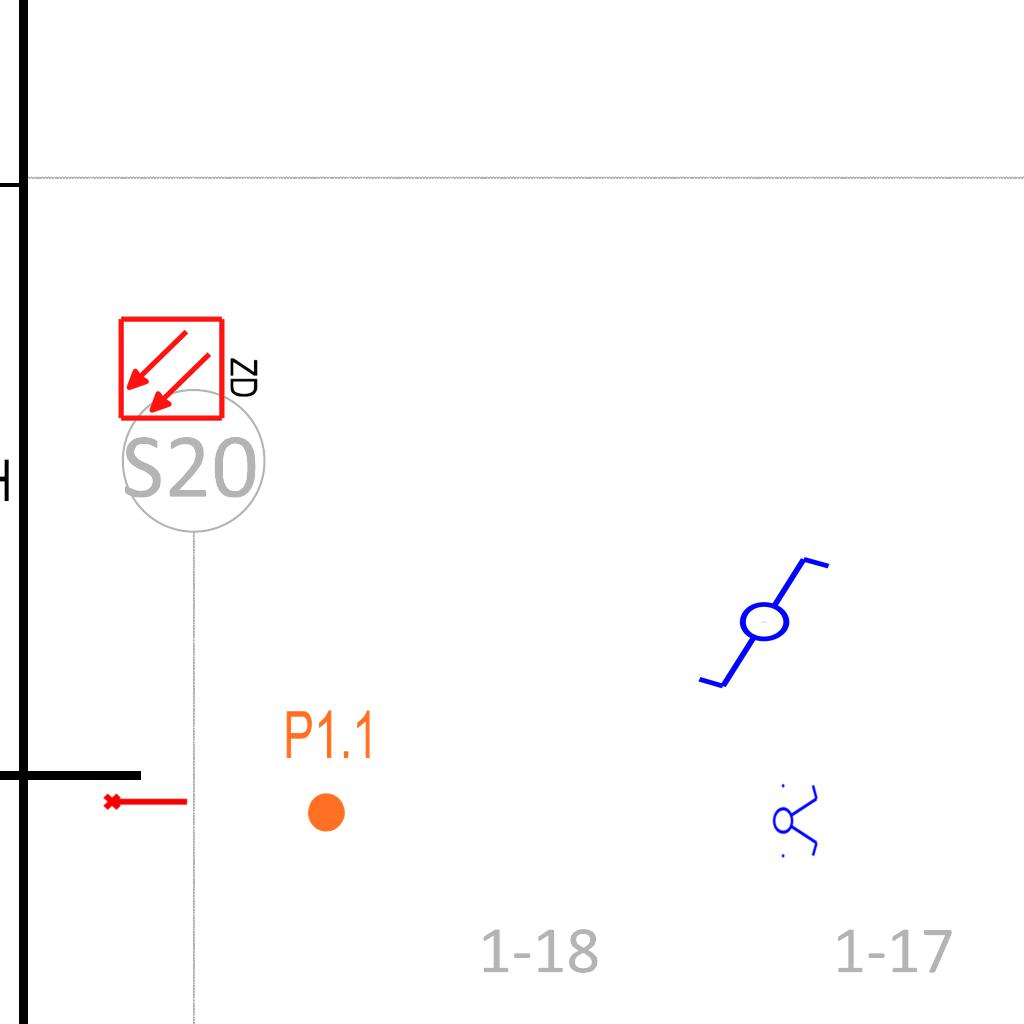ASR_Ansaugoeffnung: (102, 789, 190, 812)
Downlight_LED_Einbauleuchten_Flur: (283, 707, 376, 835)
Serienschalter: (772, 778, 820, 862)
Wechselschalter: (694, 552, 851, 696)
ZD_Melder_in_Zwischendecke_mit_Revisionsoeffnung_mind_40_x_40_cm: (116, 310, 265, 424)
